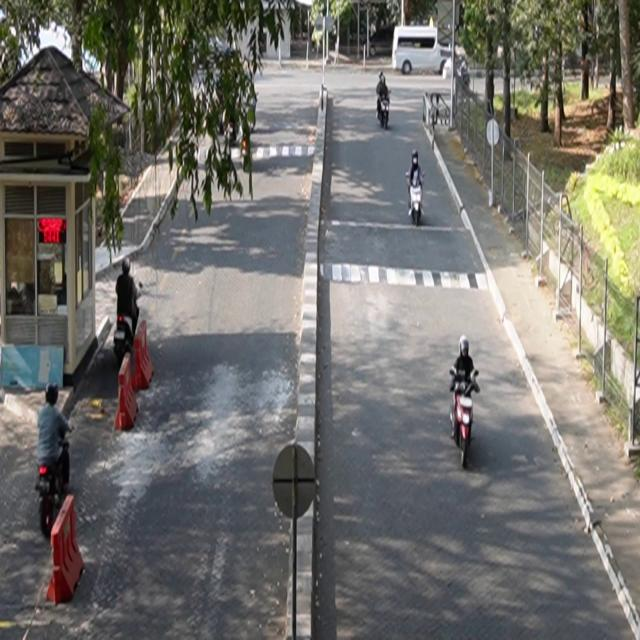truck: (392, 26, 453, 76)
